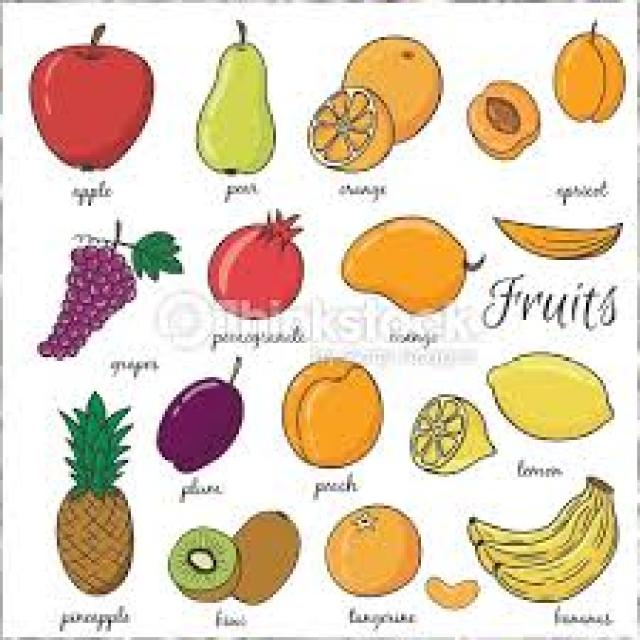Organik: (465, 480, 625, 601), (53, 390, 138, 599), (310, 28, 444, 160), (42, 233, 186, 346), (35, 27, 143, 166), (341, 218, 472, 314), (487, 346, 615, 439), (178, 510, 306, 600), (203, 23, 274, 173), (209, 218, 314, 315), (153, 360, 247, 467), (286, 360, 376, 464), (325, 508, 423, 590), (560, 21, 629, 116), (498, 208, 622, 260), (412, 392, 492, 472), (467, 80, 538, 161), (428, 574, 479, 607)
